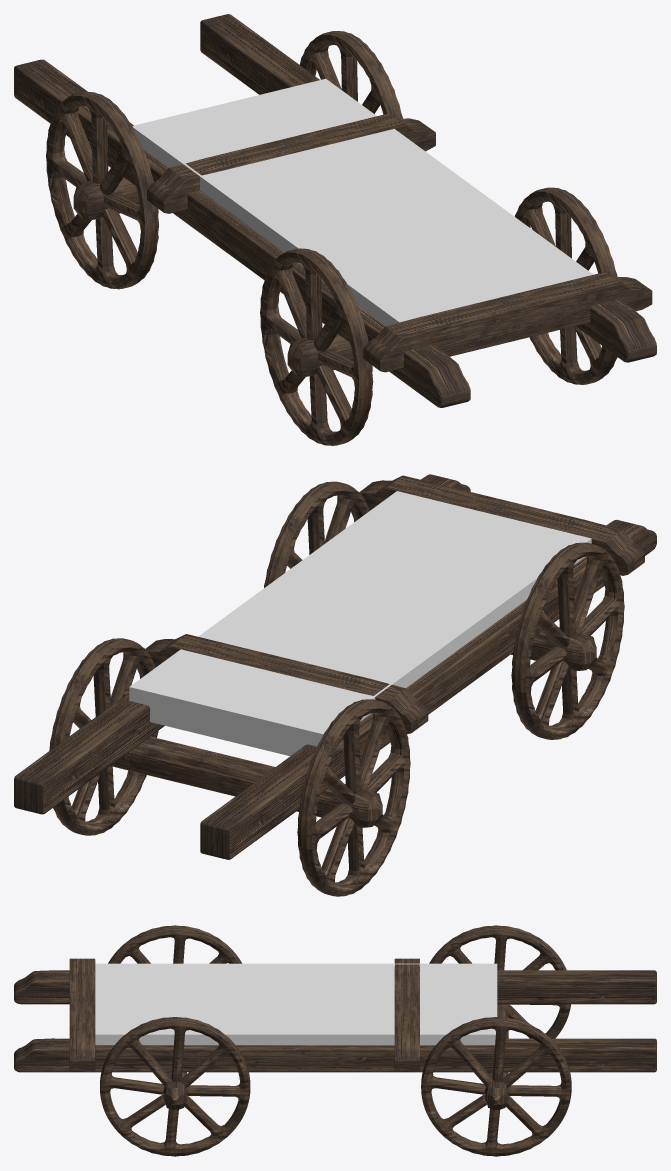
Rendered from cart.fbx.
3 views of the same model, one above another, from view 1: azimuth 30°, elevation 25°; view 2: azimuth 150°, elevation 25°; view 3: azimuth 270°, elevation 25° (orthographic). The views are drawn at different scales.
Parts seen in each view (by area): view 1: Cube, Base, Ruote2, Ruote; view 2: Cube, Base, Ruote, Ruote2; view 3: Cube, Base, Ruote, Ruote2.
Boxes of the visible parts, <box> form: Cube: <box>132,78,593,325</box>; Base: <box>14,14,656,407</box>; Ruote2: <box>260,187,617,445</box>; Ruote: <box>46,31,402,289</box>; Cube: <box>129,491,591,756</box>; Base: <box>14,474,656,859</box>; Ruote: <box>49,638,410,896</box>; Ruote2: <box>264,481,624,739</box>; Cube: <box>95,963,497,1045</box>; Base: <box>14,958,656,1072</box>; Ruote: <box>421,925,571,1156</box>; Ruote2: <box>100,925,250,1156</box>.
Size of the model in its own units: 172 by 98.62 by 421.
